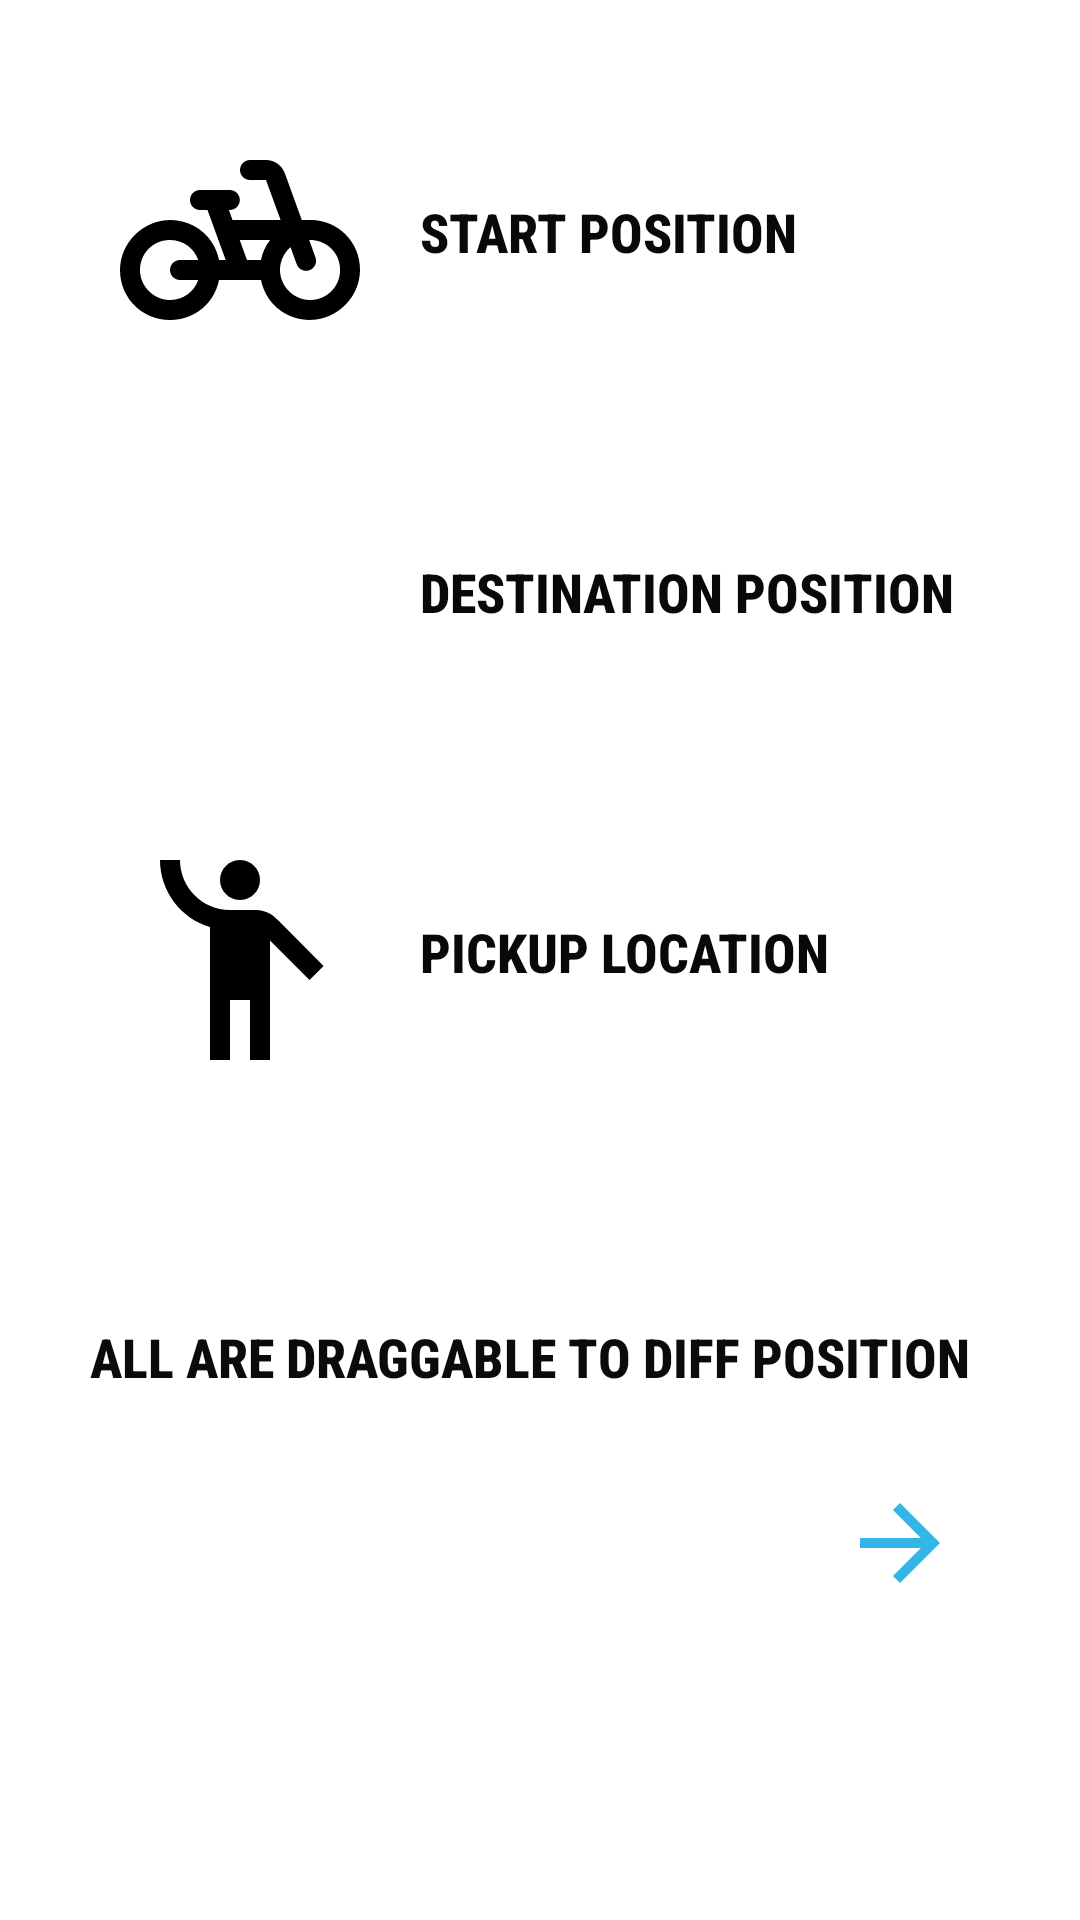

Where icons sit on this 1080 x 1920 app screen, as {"x1": x1, "y1": y1, "x2": x2, "y2": y2}:
arrow forward: {"x1": 860, "y1": 1503, "x2": 940, "y2": 1583}
